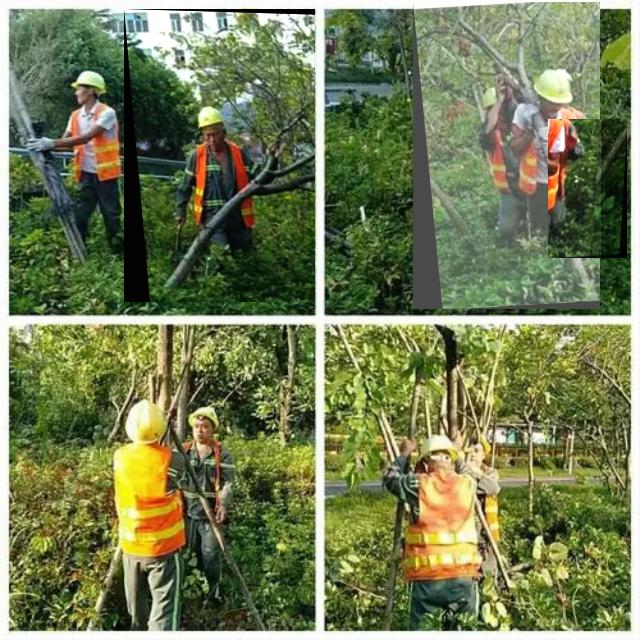Fallen Tree: (413, 2, 601, 310), (124, 9, 316, 303), (548, 119, 628, 259)
